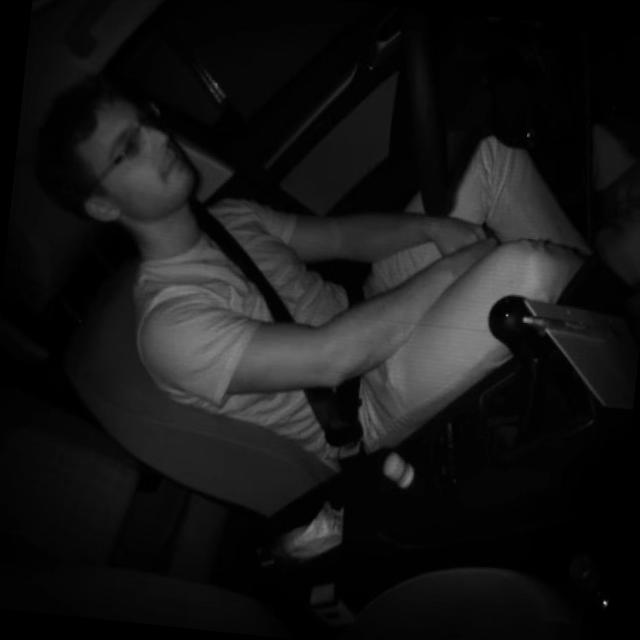pen: (521, 314, 617, 335)
